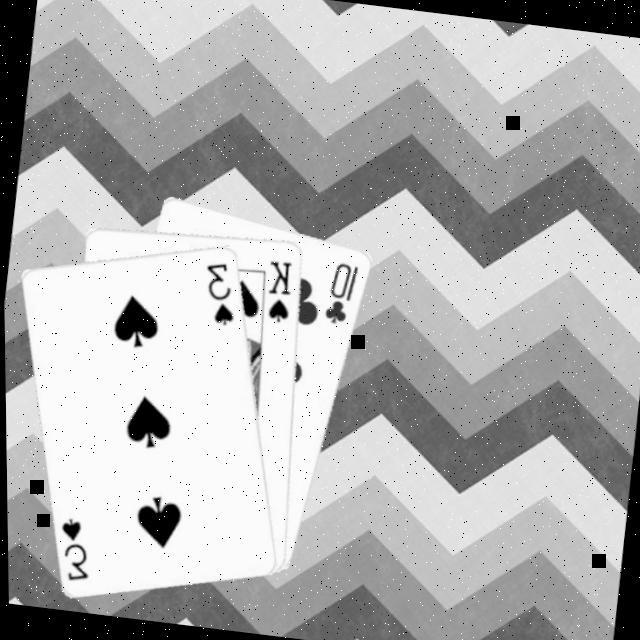10C: (321, 257, 364, 330)
3S: (197, 257, 244, 329), (52, 514, 98, 586)
KS: (260, 255, 299, 328)
